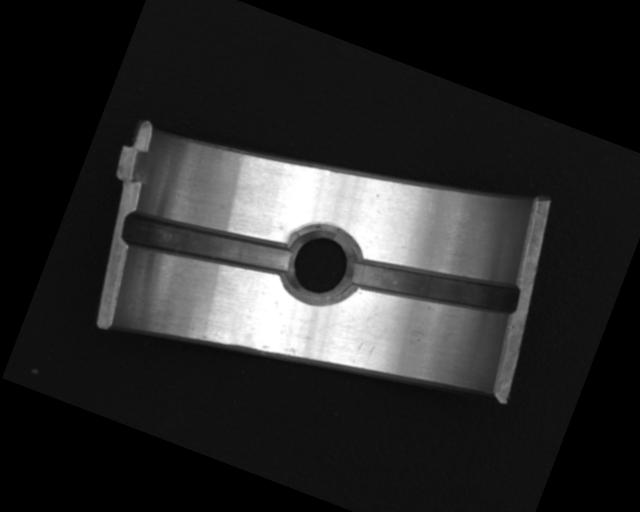gap: (347, 229, 521, 343), (119, 189, 296, 300)
hole: (276, 219, 367, 314)
